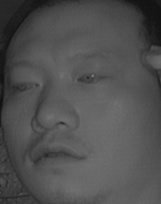eye: (76, 68, 110, 89), (9, 76, 41, 96)
mouth: (28, 137, 86, 171)
